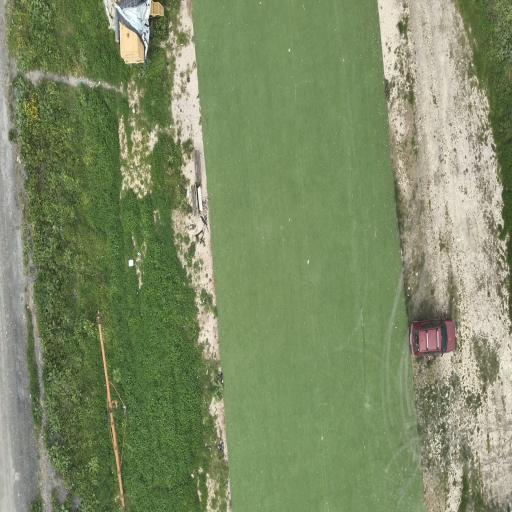car: (410, 319, 455, 356)
